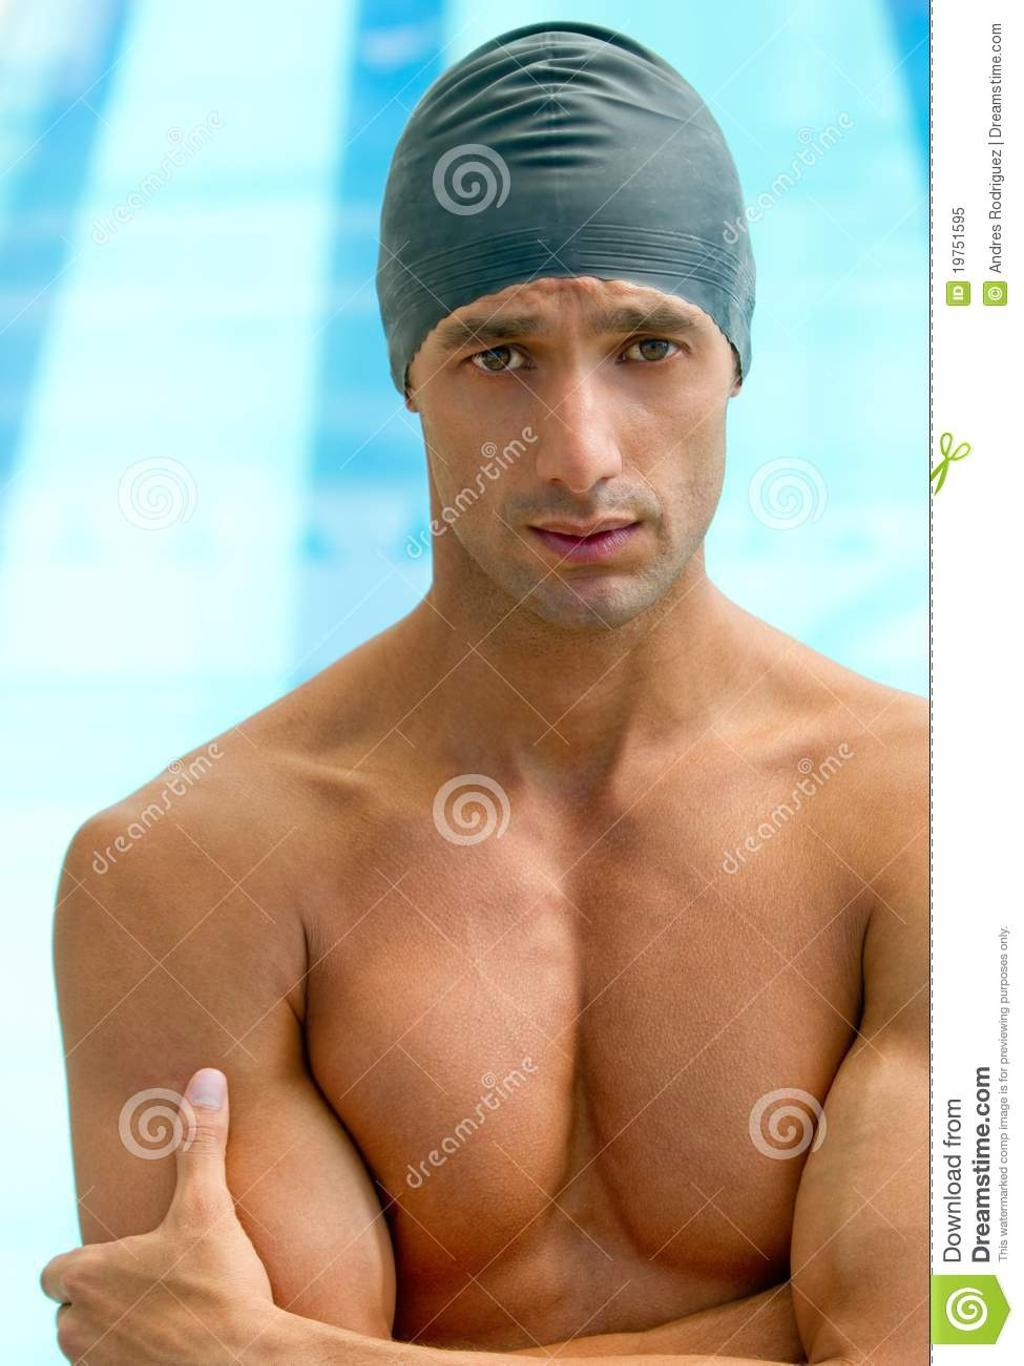face: (427, 213, 726, 616)
